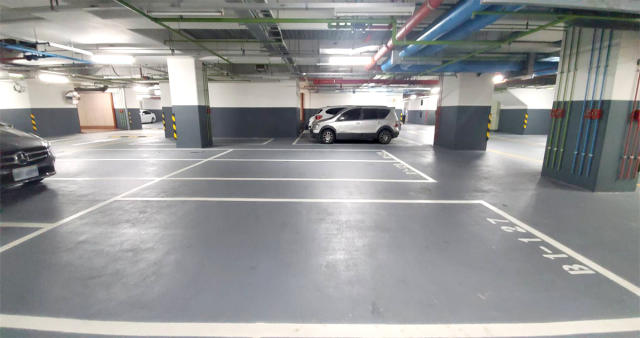car: (1, 118, 58, 199), (310, 105, 403, 145), (140, 106, 159, 128)
